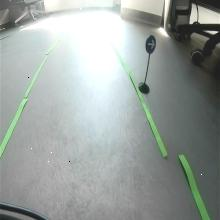right: (145, 34, 157, 54)
